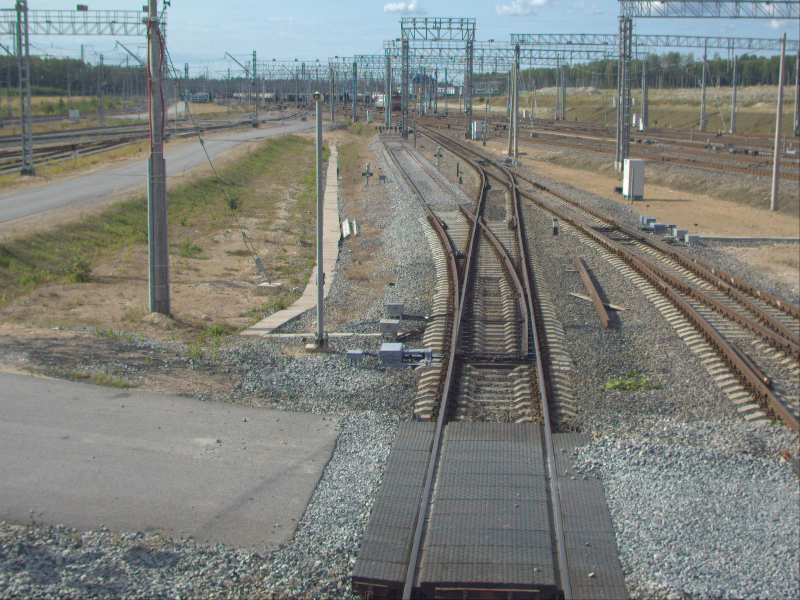straight: (444, 211, 545, 368)
